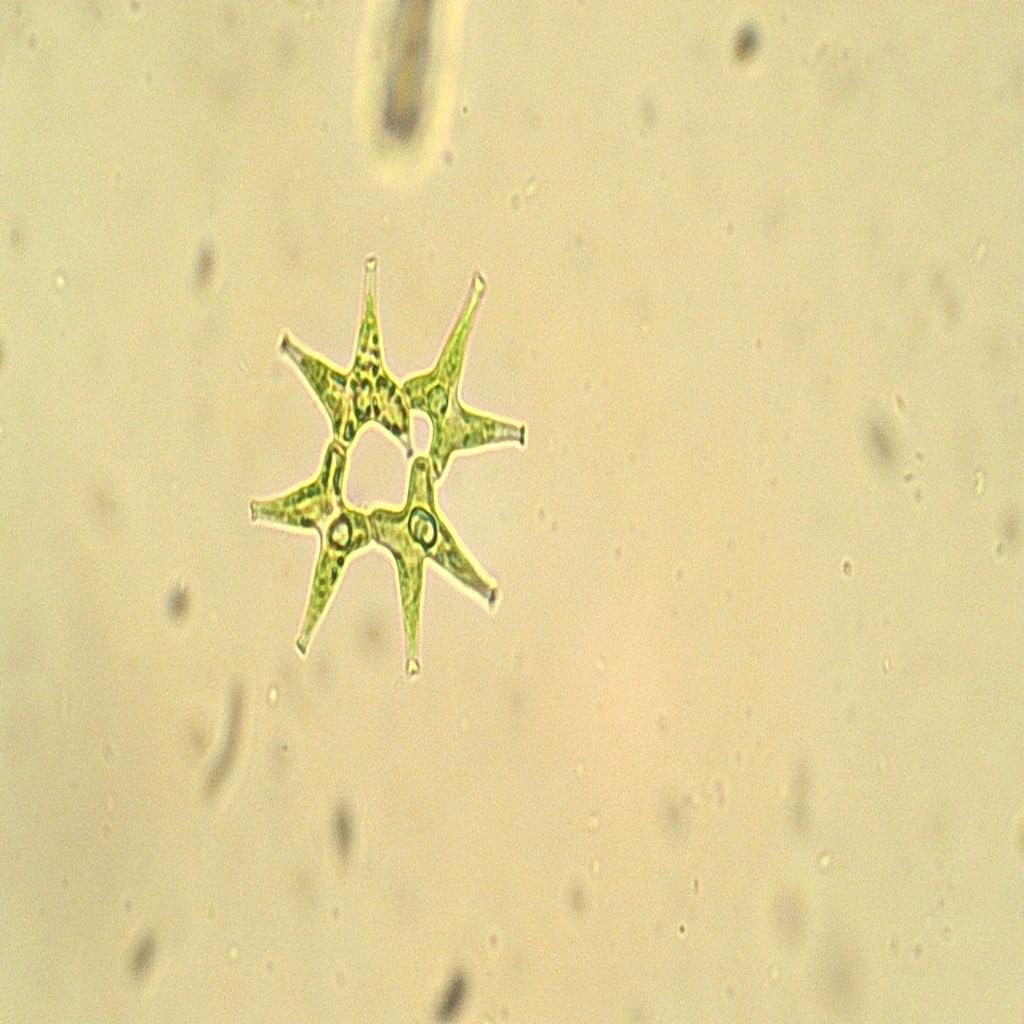Pediastrum_75FO: (228, 244, 548, 704)
